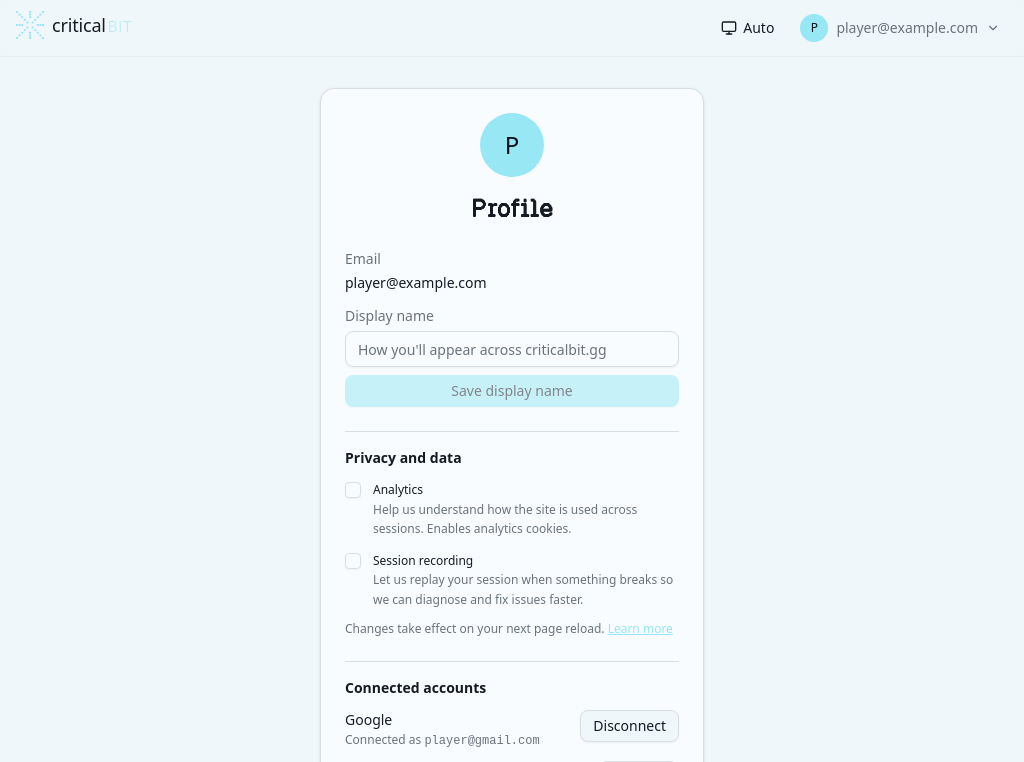
Test case: ProfilePage connected accounts › renders the remediation list when the server returns unlink_would_strand_user
Step 1. Click the button "Disconnect" → (630, 726), box [580,710,679,742]
(page scrolled)
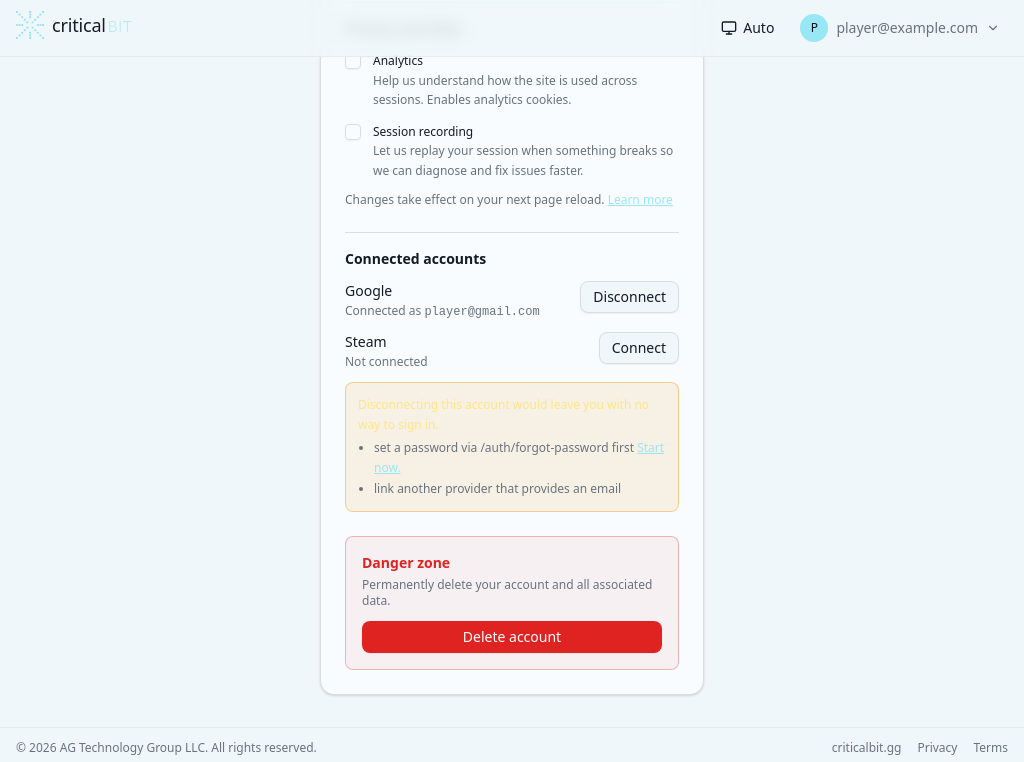
expect the element with test id "stranding-issue" is shown: met, box [345,382,679,512]
expect the list item "set a password via /auth/forgot-password first Start now." is shown: met, box [374,438,666,477]
expect the link "Start now." is shown: met, box [374,439,664,476]
